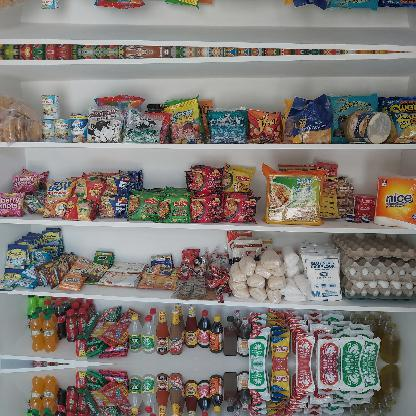Lady-s-Choice: (343, 110, 391, 144)
